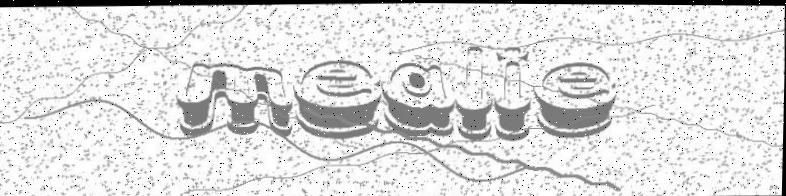a: (379, 56, 463, 148)
e: (529, 55, 622, 148), (290, 51, 384, 141)
i: (494, 33, 537, 143)
l: (454, 40, 496, 144)
m: (164, 52, 297, 148)
